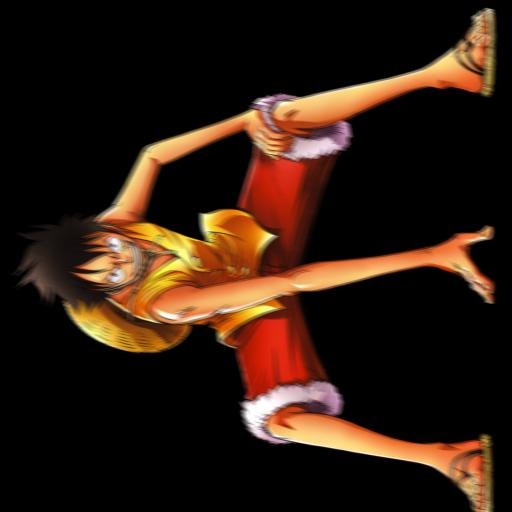Luffy: (0, 5, 499, 512)
